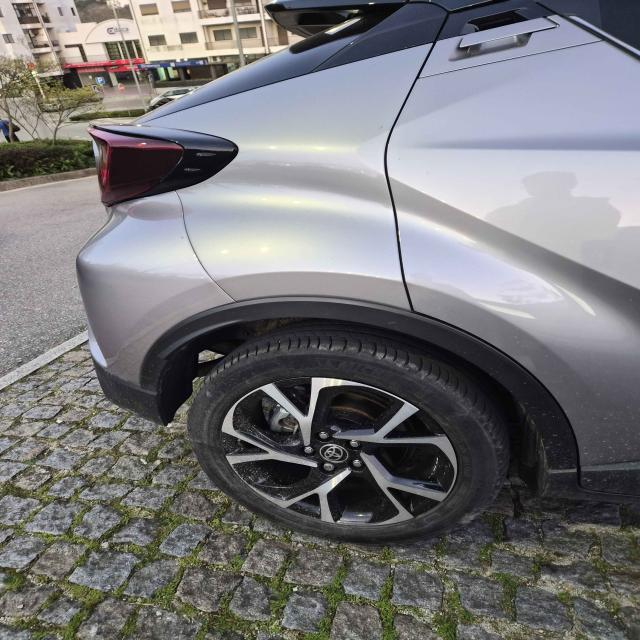jante: (221, 377, 461, 528)
parafuso: (314, 429, 333, 443), (321, 462, 336, 473), (346, 439, 361, 449), (351, 459, 364, 469), (300, 446, 314, 455)
roda: (184, 322, 512, 545)
